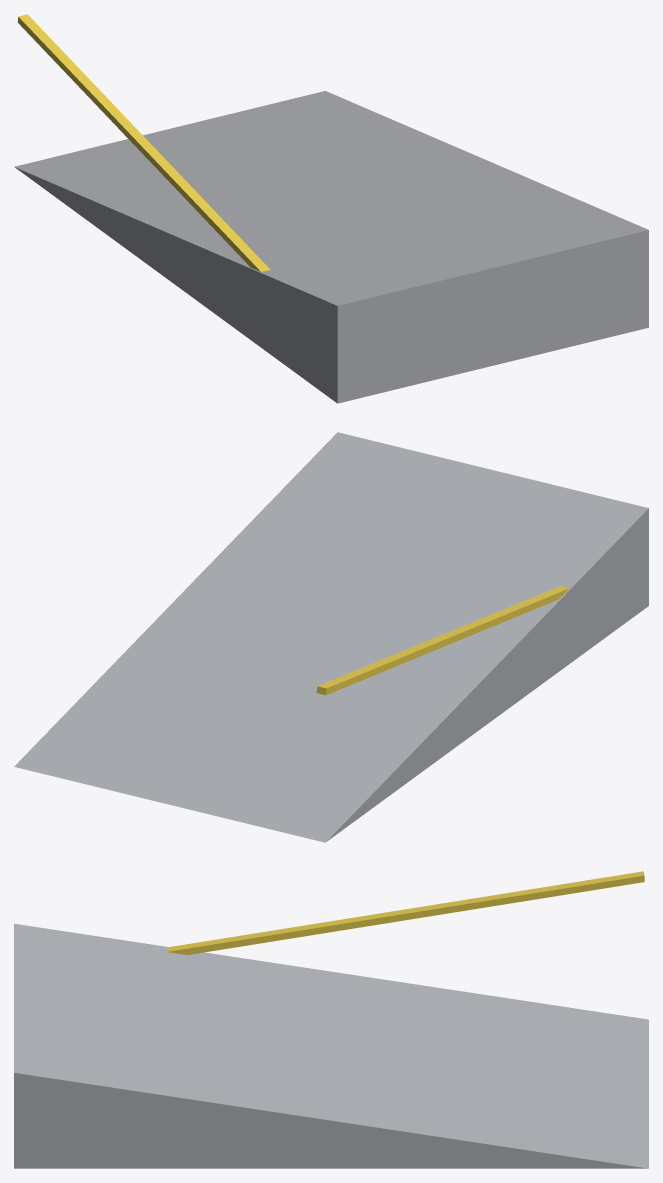
Rendered from Ramp.glb.
3 views of the same model, one above another, from view 1: azimuth 30°, elevation 25°; view 2: azimuth 150°, elevation 25°; view 3: azimuth 270°, elevation 25° (orthographic).
Visible parts, largest first — view 1: Ramp; view 2: Ramp; view 3: Ramp.
Boxes of the visible parts, <box> form: Ramp: <box>14,14,648,403</box>; Ramp: <box>14,432,648,842</box>; Ramp: <box>14,871,648,1168</box>.
Size of the model in its own units: 10 by 4.66 by 18.
